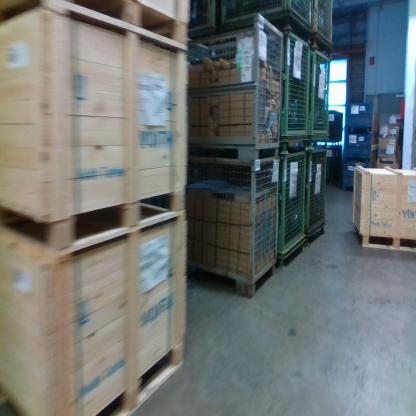stillage: (187, 10, 285, 165), (188, 149, 278, 300), (277, 23, 312, 149), (277, 146, 311, 265), (220, 1, 313, 37), (304, 144, 332, 243), (311, 42, 336, 150), (313, 3, 336, 50), (190, 1, 221, 35), (326, 145, 344, 189), (329, 101, 343, 144)
